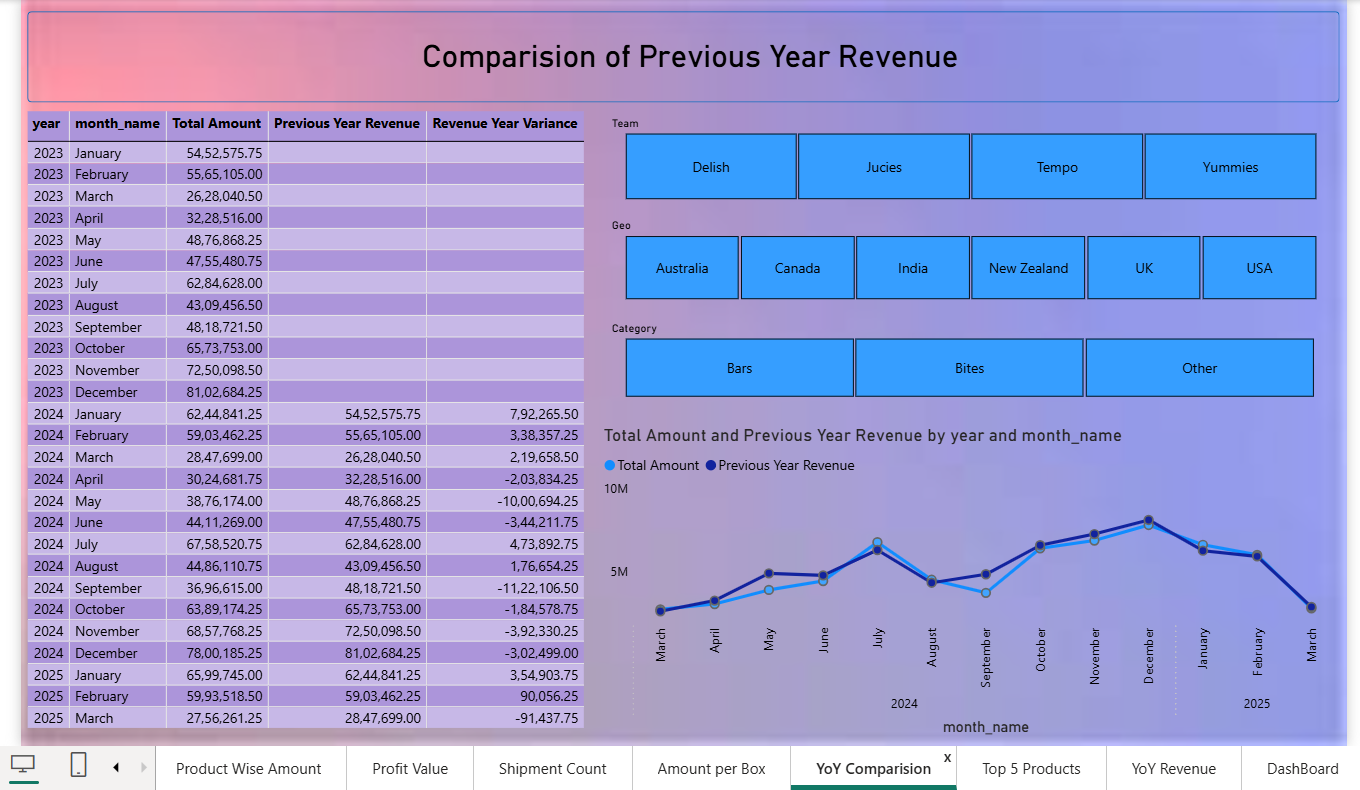

This screenshot's page, from the dashboard's own definition file:
{"tool":"powerbi","page":{"name":"YoY Comparision","canvas":[1280,720],"ordinal":4},"visuals":[{"type":"shape","box":[6,10.9,1266.8,88.1],"z":0},{"type":"tableEx","fields":{"Values":["calendar.year","calendar.month_name","shipments.Total Amount","shipments.Compare Revenue","shipments.Revenue Year Variance"]},"box":[0,102.5,550.1,617.7],"z":1000},{"type":"textbox","title":"Comparision of Previous Year Revenue","box":[381.2,36.2,529.6,36.2],"z":2000},{"type":"slicer","fields":{"Values":["people.Team"]},"box":[557.4,107.4,716.6,91.7],"z":3000},{"type":"slicer","fields":{"Values":["locations.Geo"]},"box":[557.4,206.3,716.6,89.3],"z":4000},{"type":"slicer","fields":{"Values":["products.Category"]},"box":[557.4,305.2,714.2,84.5],"z":5000},{"type":"lineChart","fields":{"Category":["calendar.year","calendar.month_name"],"Y":["shipments.Total Amount","shipments.Previous Year Revenue"]},"box":[557.4,399.3,714.2,316.1],"z":6000}]}

Visuals, with their boxes on the page's 1280x720 design canvas (x1, y1, x2, y2). These are canvas units, not pixel positions in the 1360x790 screenshot, which may show the page scaled, cropped or inside an application window:
shape: box=[6, 11, 1273, 99]
tableEx - calendar.year x calendar.month_name: box=[0, 102, 550, 720]
"Comparision of Previous Year Revenue" textbox: box=[381, 36, 911, 72]
slicer - people.Team: box=[557, 107, 1274, 199]
slicer - locations.Geo: box=[557, 206, 1274, 296]
slicer - products.Category: box=[557, 305, 1272, 390]
lineChart - calendar.year x calendar.month_name: box=[557, 399, 1272, 715]
